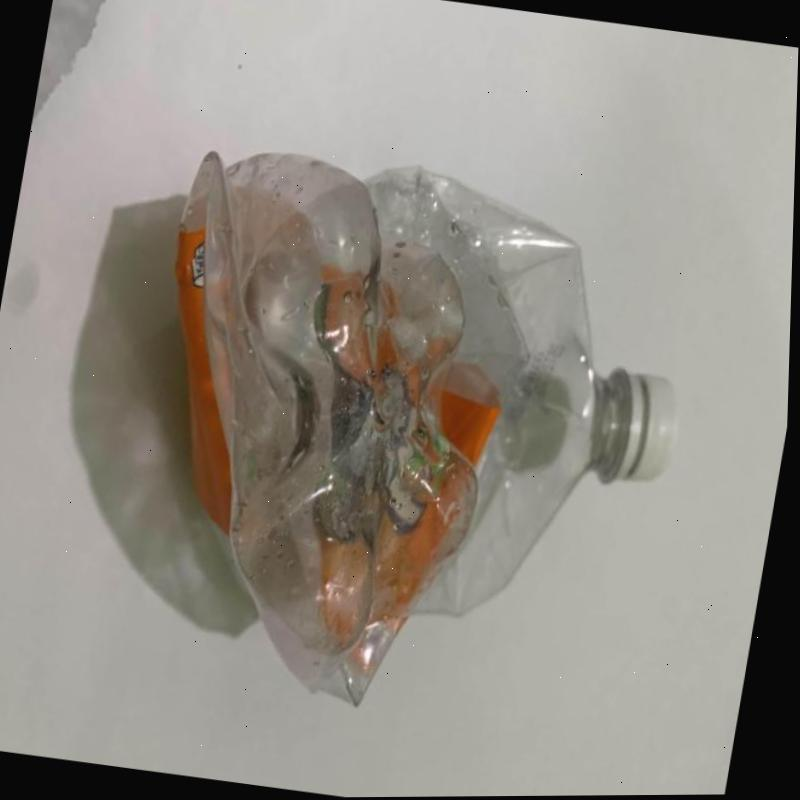botella: (105, 124, 723, 748)
